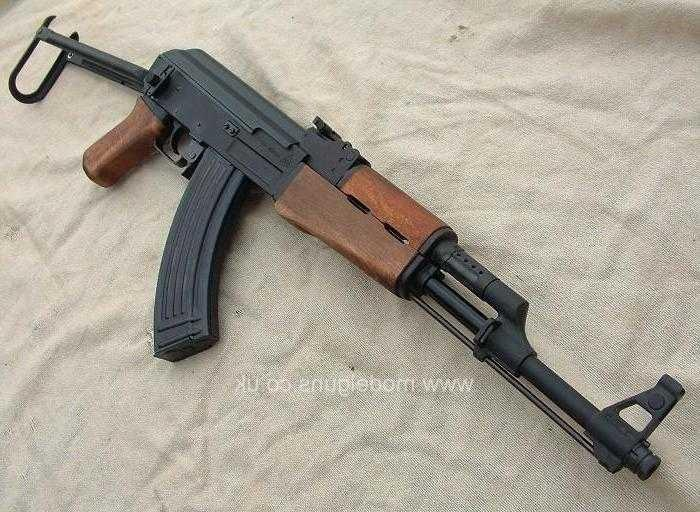heavyweapon: (12, 16, 681, 493)
